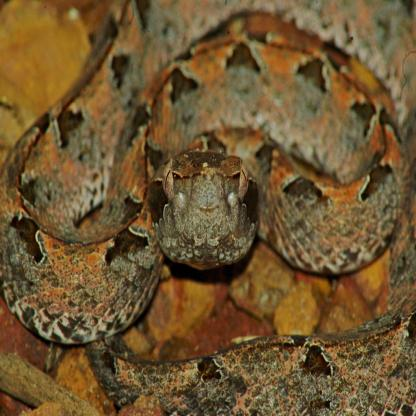Snake: (7, 16, 405, 333), (155, 139, 262, 270)
